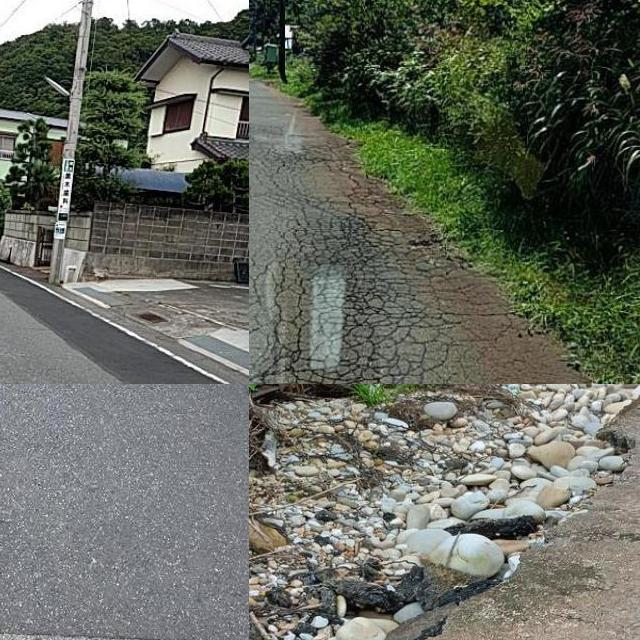Pinggir: (262, 384, 640, 640)
Retak Buaya: (249, 153, 496, 384)
Sambungan: (0, 384, 249, 640), (0, 266, 216, 384)
